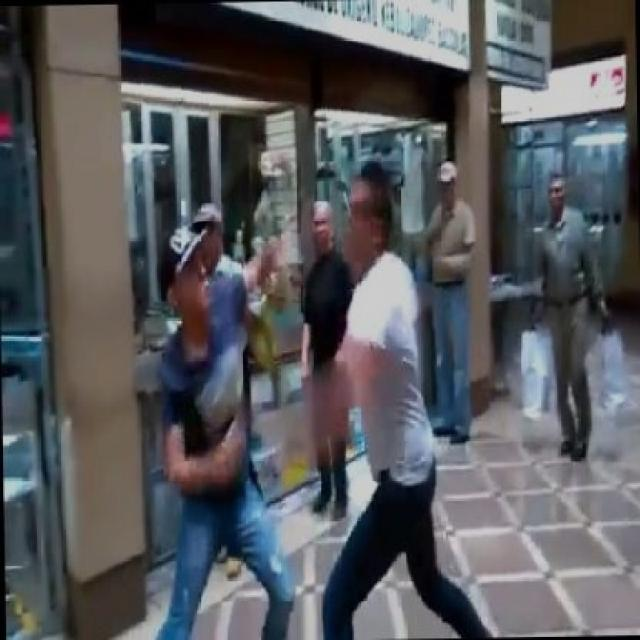fight: (150, 158, 494, 638)
non-fight: (522, 170, 612, 462), (409, 158, 482, 442), (296, 197, 357, 520)
